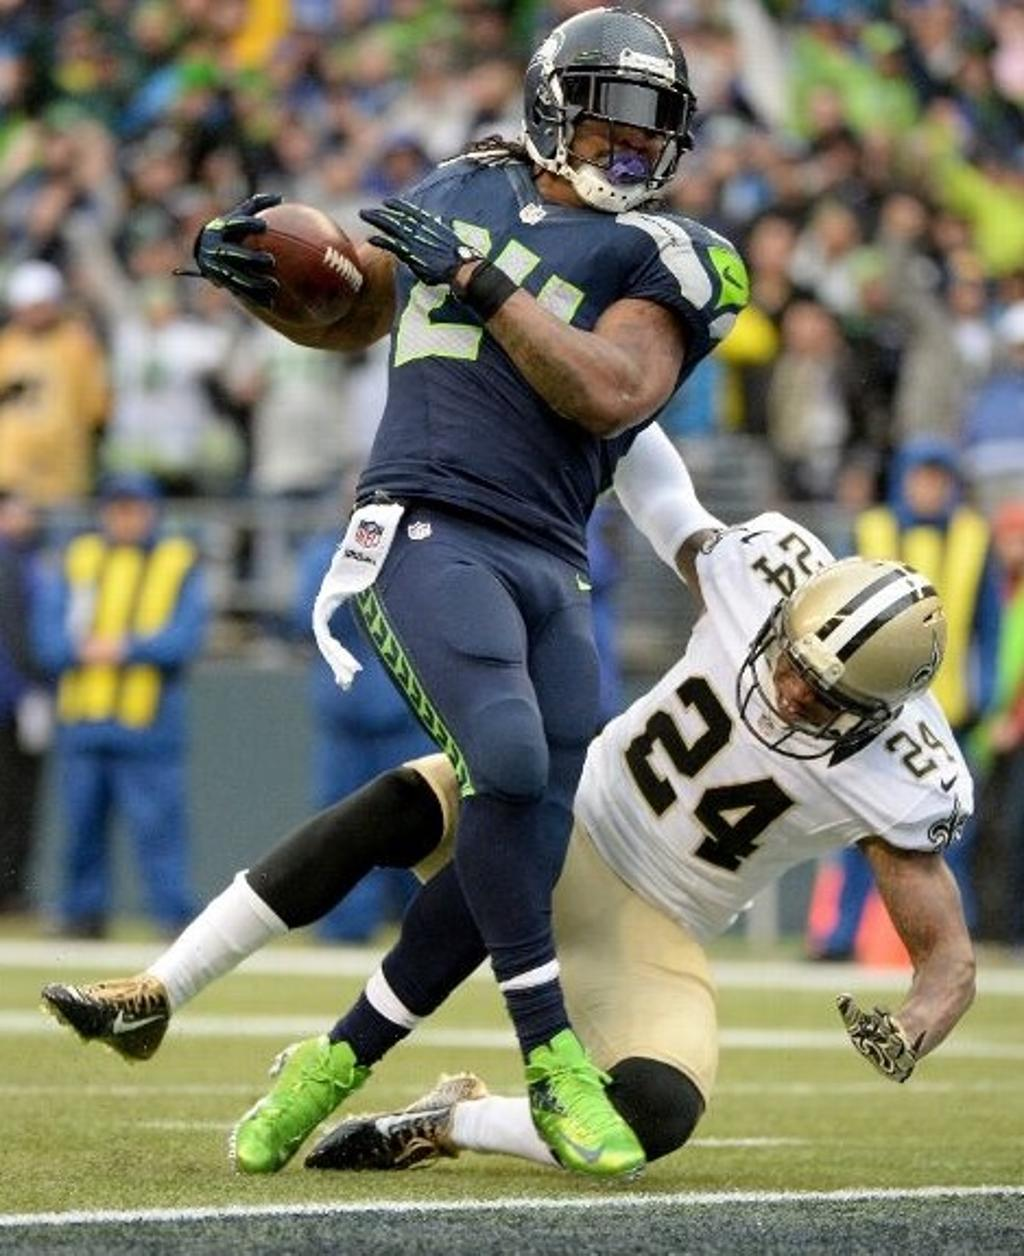face: (568, 59, 673, 199), (767, 622, 863, 737)
